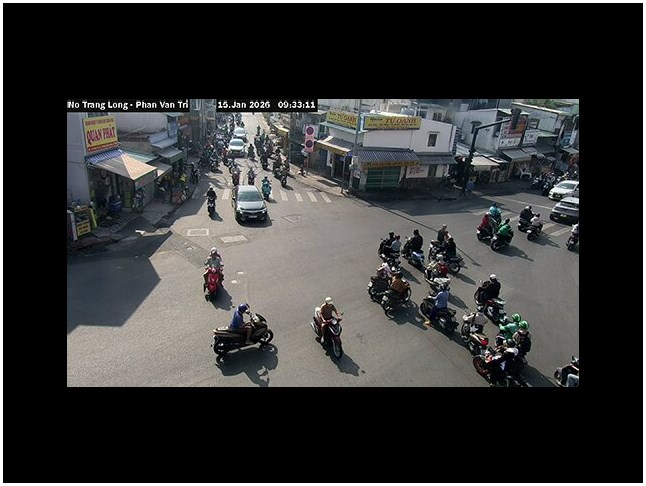car: (234, 186, 271, 224), (550, 198, 579, 225), (548, 180, 579, 200), (228, 137, 247, 155)
motorbike: (212, 303, 273, 360)
